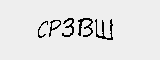В: (76, 17, 93, 39)
З: (60, 17, 78, 37)
Р: (47, 19, 61, 36)
С: (37, 19, 49, 41)
Ш: (92, 18, 117, 41)
